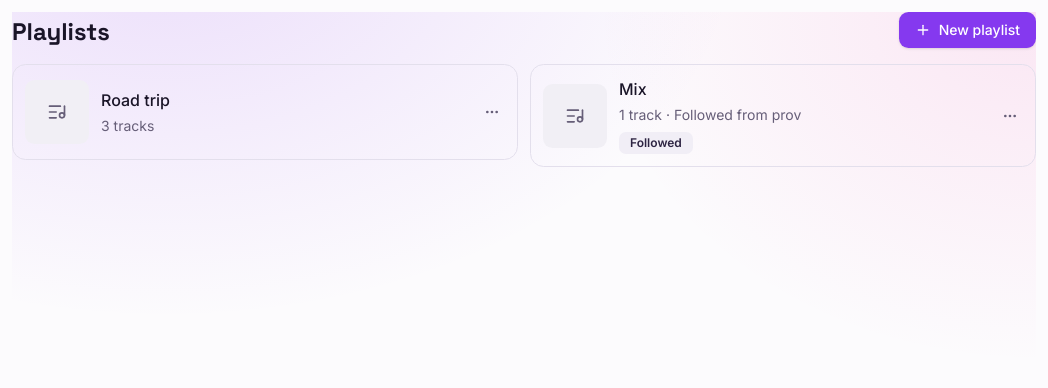
Test case: Playlists page — the menu of each playlist › a followed one cannot be renamed and is unfollowed instead of deleted
The width and height of the screenshot is (1048, 388).
Click the button named "More actions for Mix": (1010, 116) [988,94,1032,138]
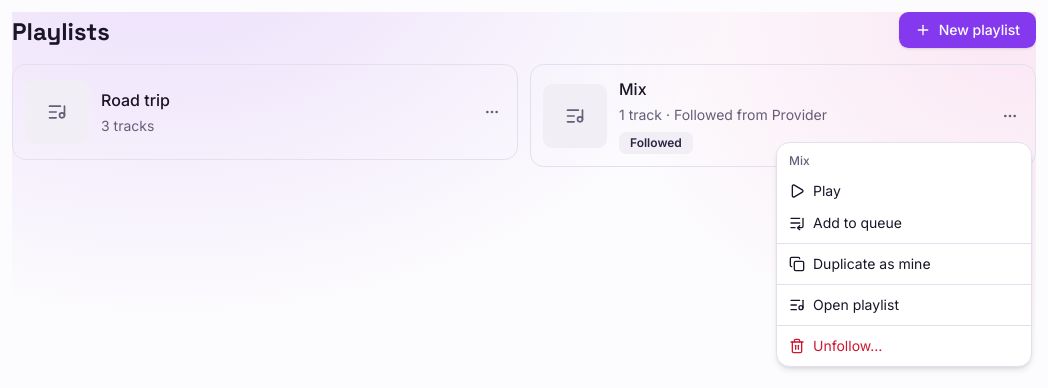
Result: the menu is shown at [776,142,1032,367]
